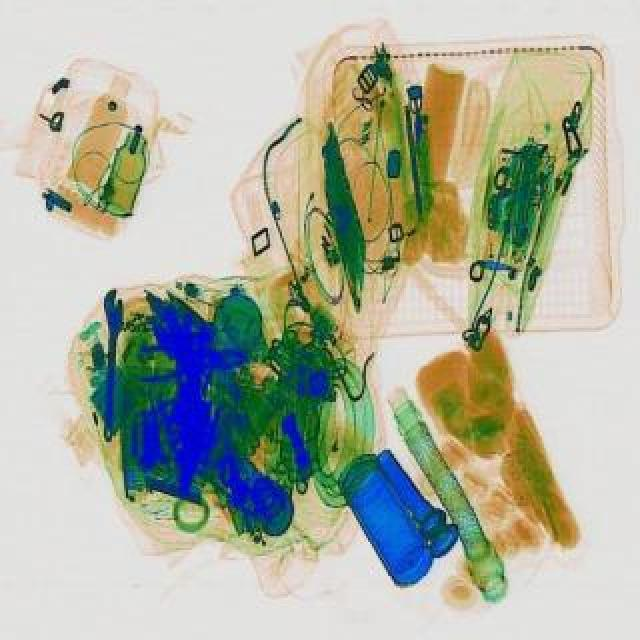scissors: (98, 290, 126, 442)
